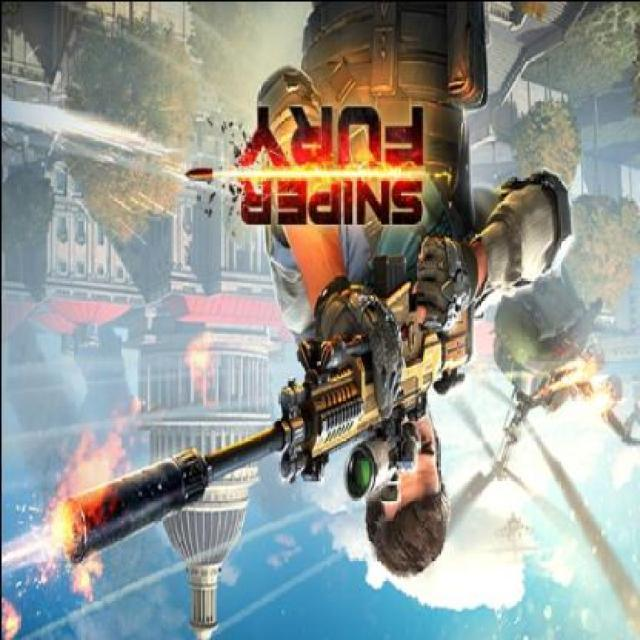weapon: (46, 230, 475, 608)
